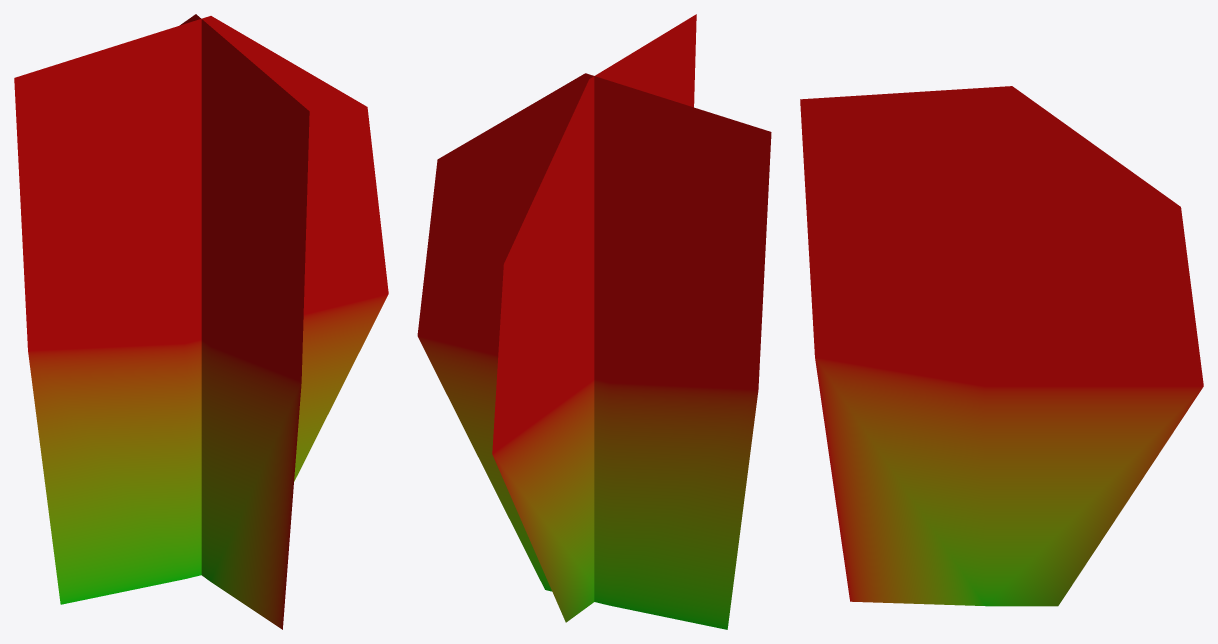
The model's file is Kikuyu Grass_LOD6_Var15_wiljearqx.fbx.
3 views of the same model, side by side, from view 1: azimuth 30°, elevation 25°; view 2: azimuth 150°, elevation 25°; view 3: azimuth 270°, elevation 25° (orthographic). The views are drawn at different scales.
Parts seen in each view (by area): view 1: _s64v_Var15_LOD6; view 2: _s64v_Var15_LOD6; view 3: _s64v_Var15_LOD6.
Part boxes in pixels (bbox=[...]): _s64v_Var15_LOD6: bbox=[14, 14, 388, 629]; _s64v_Var15_LOD6: bbox=[417, 14, 771, 629]; _s64v_Var15_LOD6: bbox=[800, 86, 1203, 606].
Size of the model in its own units: 14.41 by 20.48 by 14.41.
